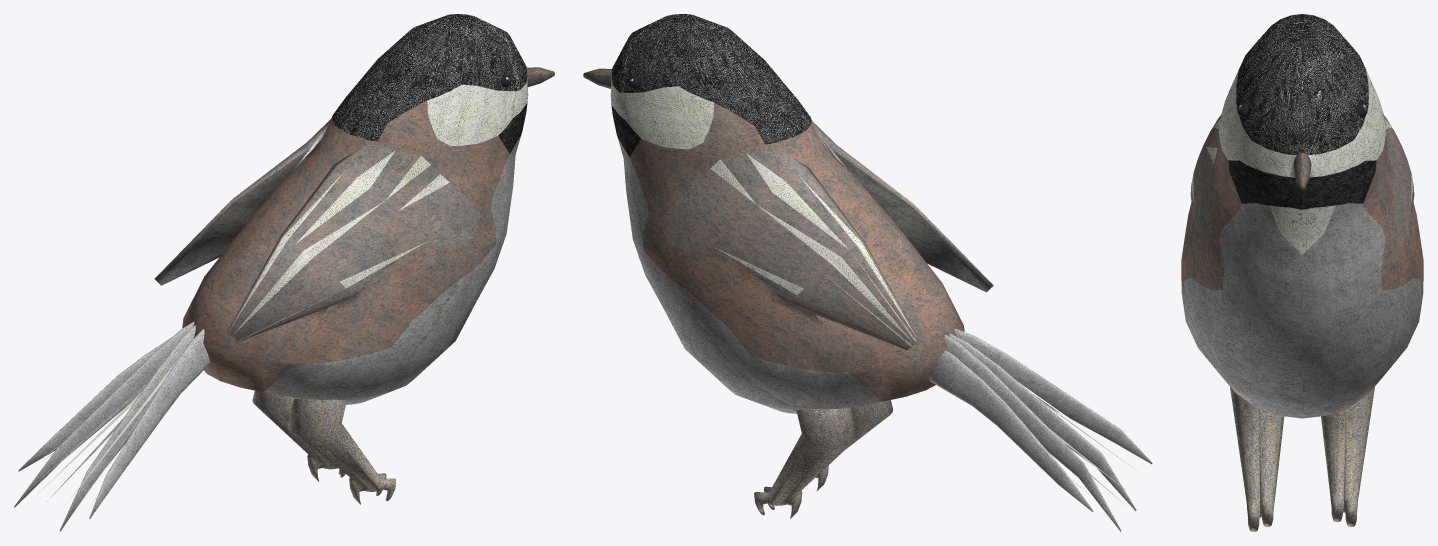
File: bird.dae
3 views of the same model, side by side, from view 1: azimuth 30°, elevation 25°; view 2: azimuth 150°, elevation 25°; view 3: azimuth 270°, elevation 25° (orthographic). The views are drawn at different scales.
Visible parts, largest first — view 1: Chickadee-dee-dee-dee-dee_ (×17); view 2: Chickadee-dee-dee-dee-dee_ (×17); view 3: Chickadee-dee-dee-dee-dee_ (×11).
Part boxes in pixels (x1,y1,x2,y2): Chickadee-dee-dee-dee-dee_ (×17): (14, 14, 528, 531); Chickadee-dee-dee-dee-dee_ (×17): (610, 14, 1152, 531); Chickadee-dee-dee-dee-dee_ (×11): (1181, 14, 1423, 531).
Size of the model in its own units: 8.72 by 2.76 by 7.01.
11 materials, 8 textured.
